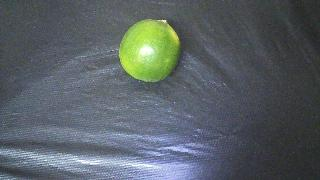LOCAL: (119, 19, 181, 82)
